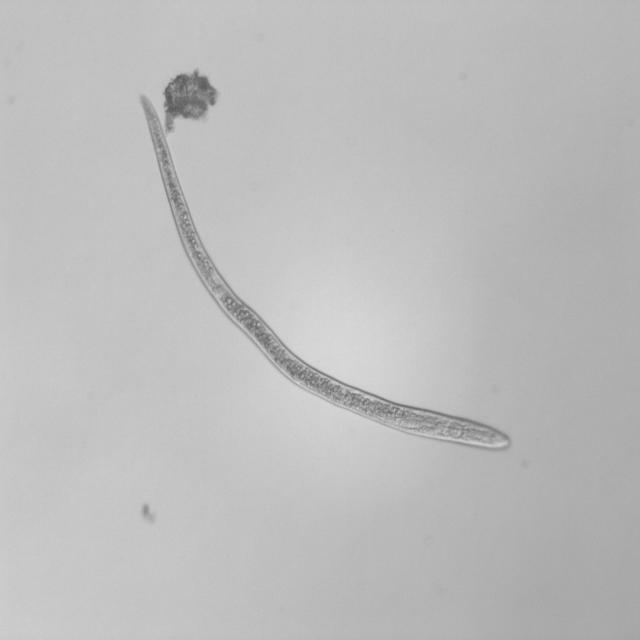Pratylenchus: (134, 90, 513, 453)
